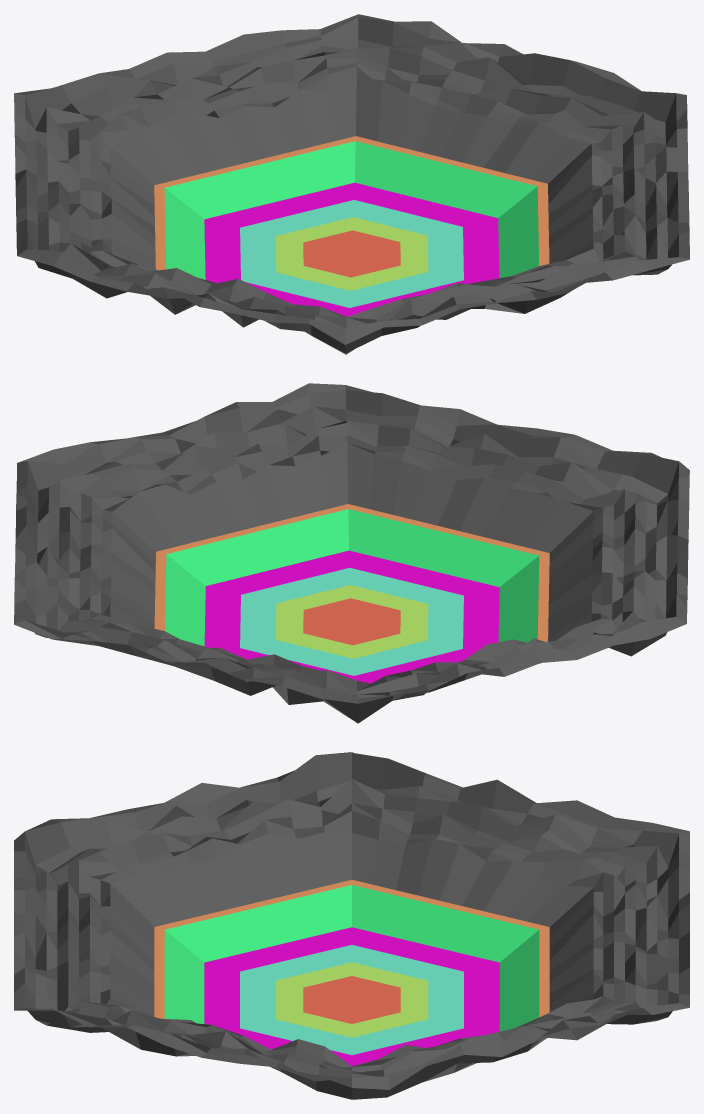
Rendered from Arena.fbx.
3 renders of one model, top to bottom at view 1: azimuth 30°, elevation 25°; view 2: azimuth 150°, elevation 25°; view 3: azimuth 270°, elevation 25°, orthographic.
Visible parts, largest first — view 1: Plane; view 2: Plane; view 3: Plane.
Part boxes in pixels (left/top/right/bottom): Plane: left=14, top=14, right=689, bottom=354; Plane: left=14, top=383, right=689, bottom=723; Plane: left=14, top=752, right=689, bottom=1099.
Size of the model in its own units: 6734 by 884 by 5770.
